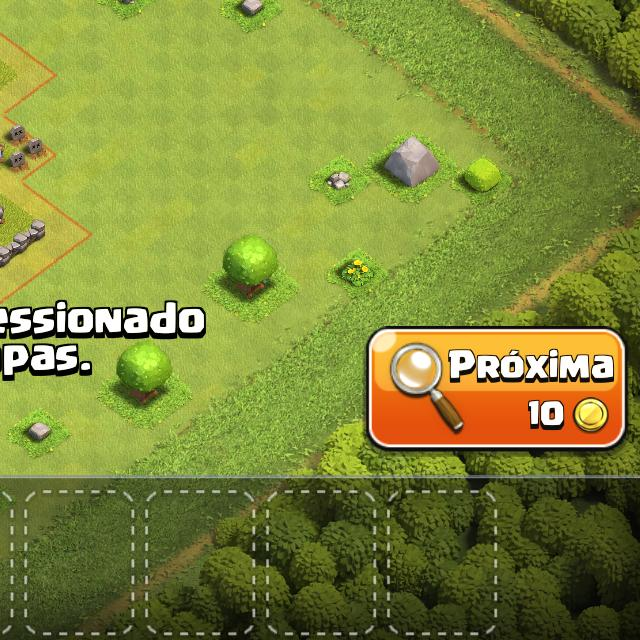Next: (357, 322, 630, 452)
